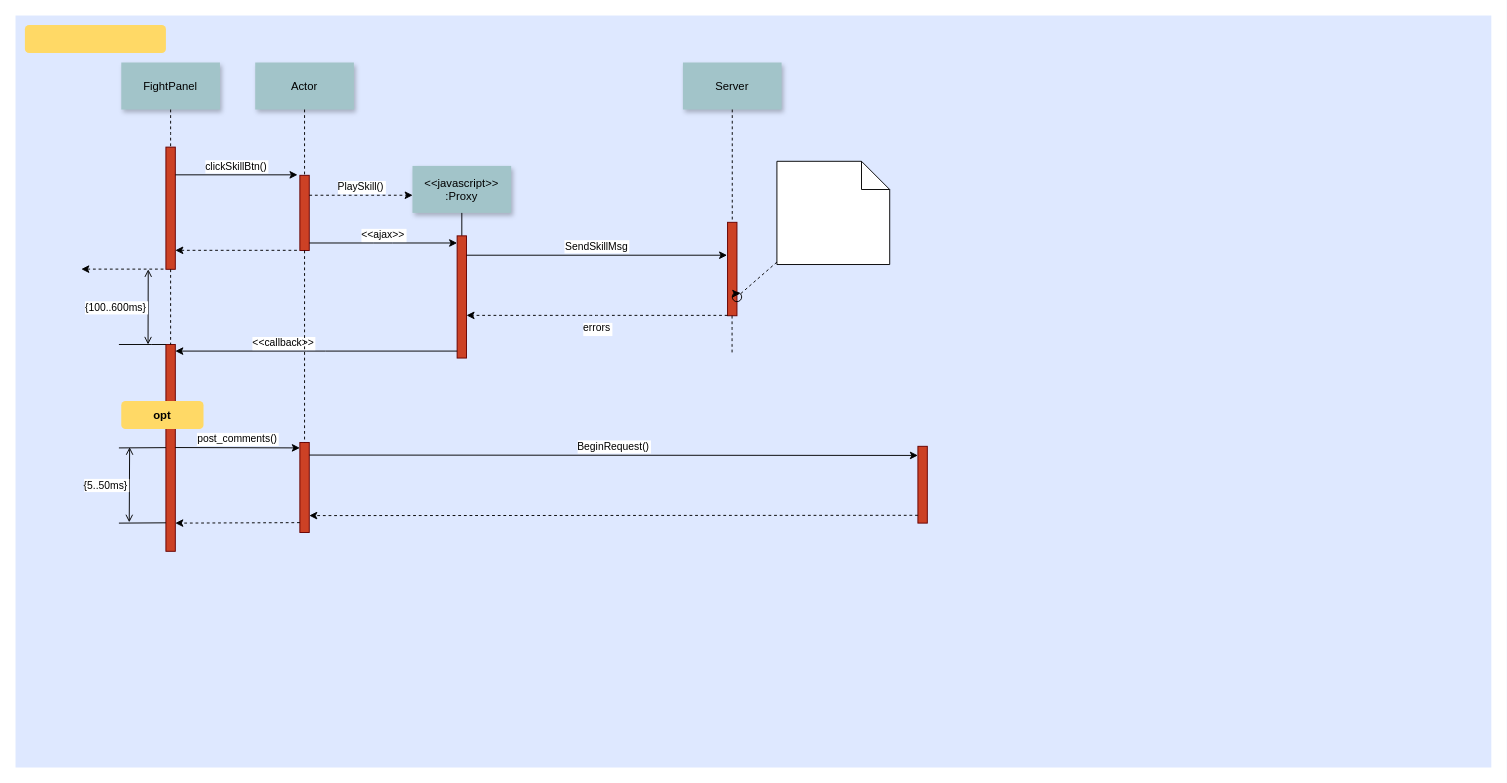
The diagram is 1507 pixels wide and 783 high, and some of its shapes have lost their labels. Each missing label, with the centre of its shape:
"- user validation - password check" goes at (833,212).
"skill" goes at (94,38).
